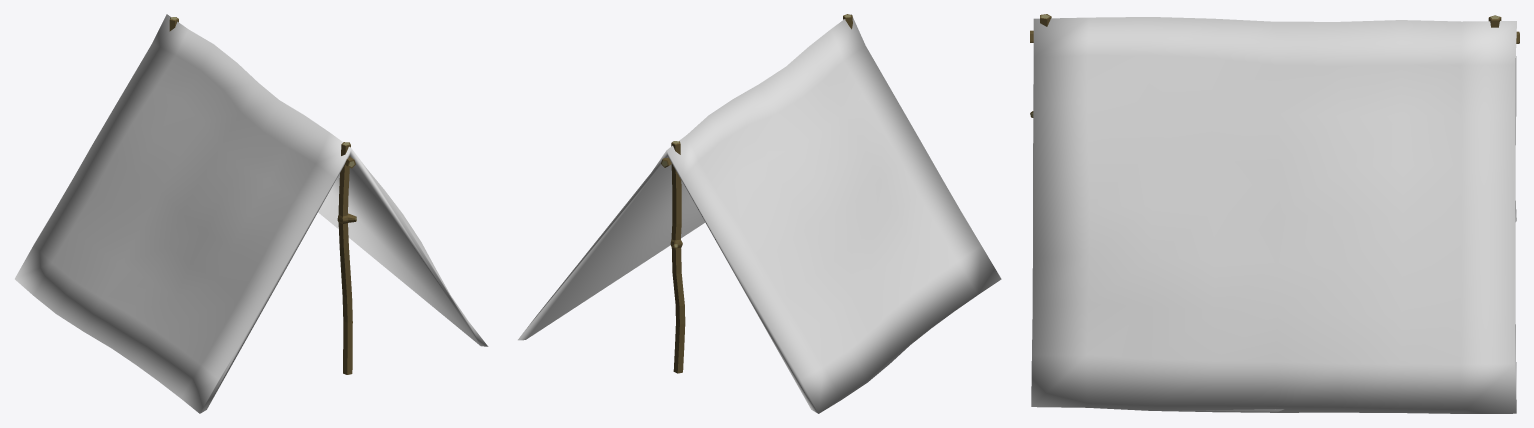
Rendered from tent_01.fbx.
3 renders of one model, left to right at view 1: azimuth 30°, elevation 25°; view 2: azimuth 150°, elevation 25°; view 3: azimuth 270°, elevation 25°, orthographic. The views are drawn at different scales.
Visible parts, largest first — view 1: Cube; view 2: Cube; view 3: Cube.
Boxes of the visible parts, x1,y1,x2,y2 form: Cube: (15, 14, 488, 413); Cube: (518, 14, 1001, 413); Cube: (1030, 14, 1519, 413).
Bounding box in the file's own units: 281 × 203 × 298.
